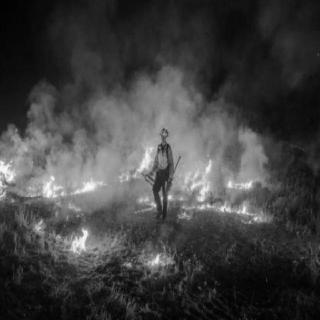Fire: (2, 121, 268, 283)
